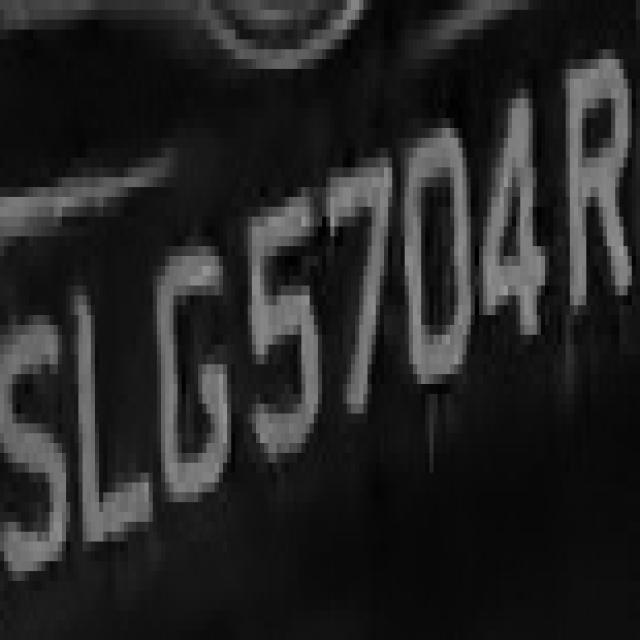0: (384, 109, 479, 414)
4: (450, 59, 549, 374)
5: (239, 178, 318, 492)
7: (318, 108, 396, 463)
G: (148, 216, 240, 552)
L: (66, 236, 157, 581)
R: (561, 39, 640, 334)
S: (4, 285, 66, 640)
